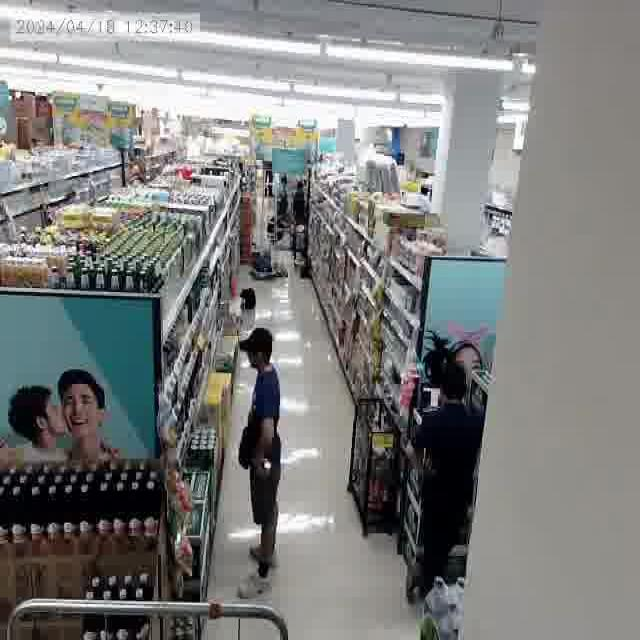shoplifting: (222, 314, 295, 610)
